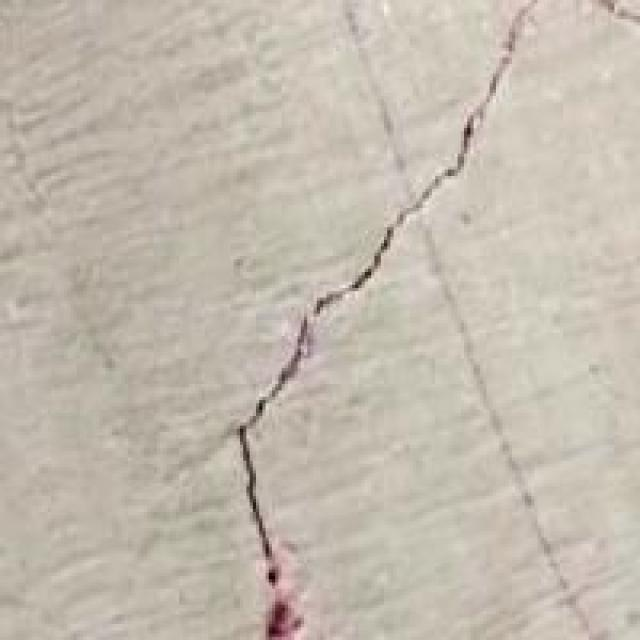Crack: (212, 0, 615, 637)
